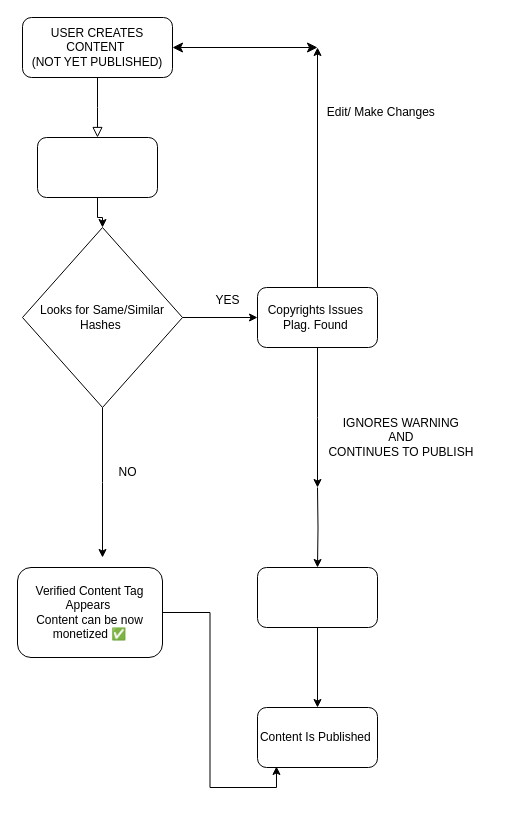
This 505x813 diagram has some shape labels left out. The centre of each missing label's shape, as x and y in pixels:
A Tag Appears Beside the Content COPIED CONTENT ⛔️: (x=317, y=597)
HASH OF DATA GENERATED: (x=97, y=167)
